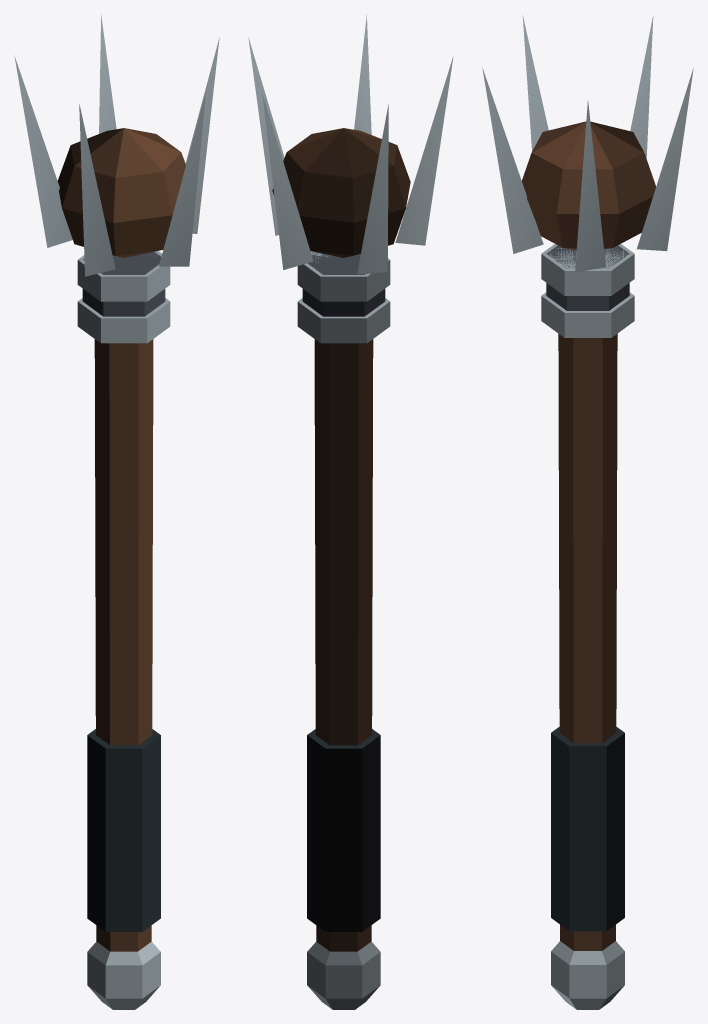
Rendered from mage_scepter_1.gltf.
3 renders of one model, left to right at view 1: azimuth 30°, elevation 25°; view 2: azimuth 150°, elevation 25°; view 3: azimuth 270°, elevation 25°, orthographic.
Parts seen in each view (by area): view 1: mage_scepter_1; view 2: mage_scepter_1; view 3: mage_scepter_1.
Boxes of the visible parts, bbox=[...] form: mage_scepter_1: bbox=[14, 14, 219, 1009]; mage_scepter_1: bbox=[248, 14, 453, 1009]; mage_scepter_1: bbox=[482, 15, 693, 1009].
Bounding box in the file's own units: 0.2171 × 1.13 × 0.2283.
Materials: 1 (1 with a texture image).
